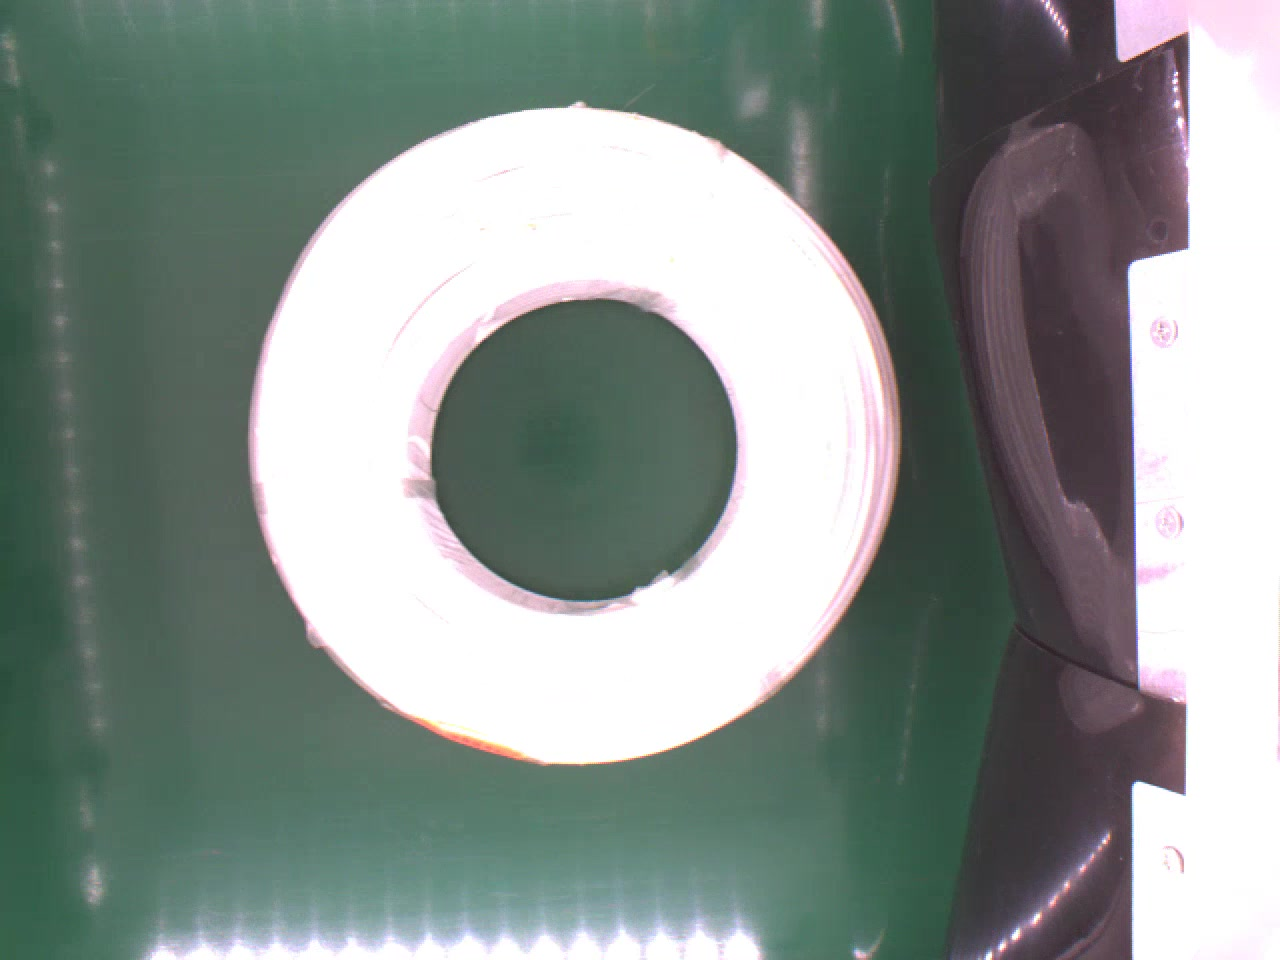white: (240, 90, 905, 775)
